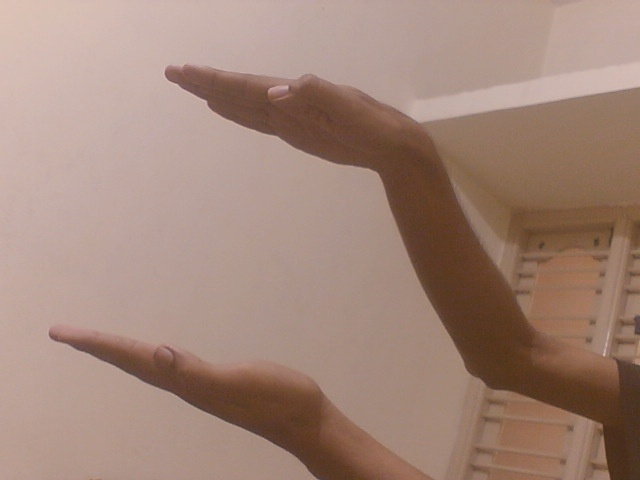hand: (42, 323, 323, 460), (158, 59, 425, 171)
